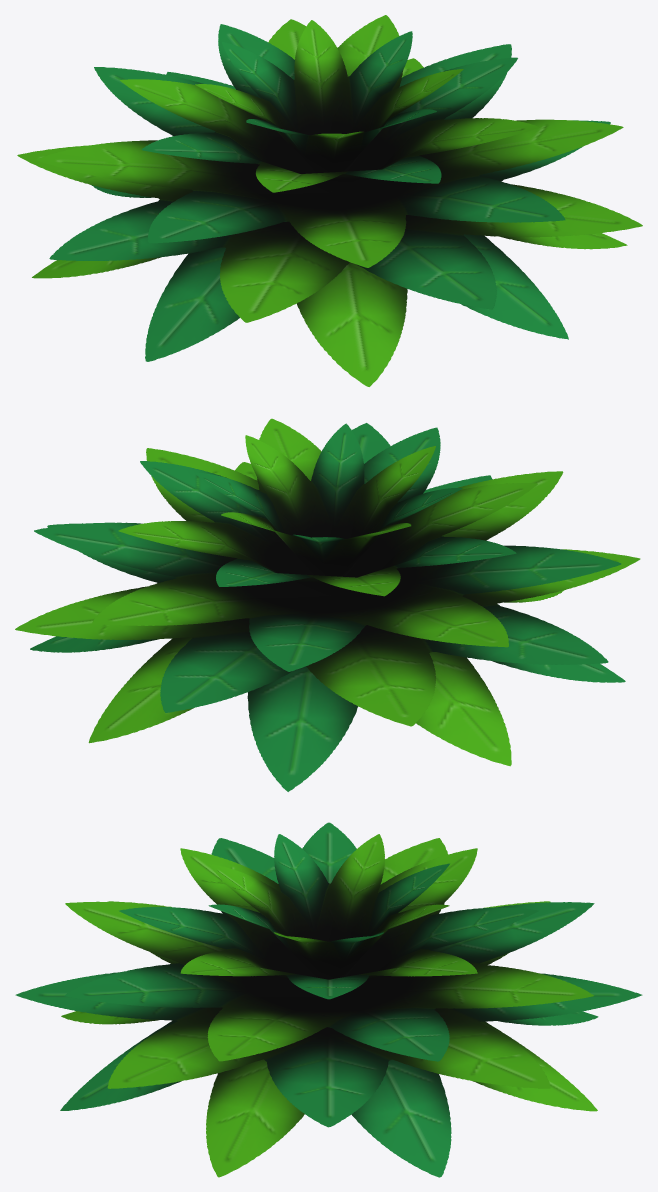
File: bush.FBX
The picture shows the model from 3 angles, top to bottom: view 1: azimuth 30°, elevation 25°; view 2: azimuth 150°, elevation 25°; view 3: azimuth 270°, elevation 25°; orthographic projection. The views are drawn at different scales.
Parts seen in each view (by area): view 1: Cylinder005; view 2: Cylinder005; view 3: Cylinder005.
Part boxes in pixels (x1=…): Cylinder005: x1=17, y1=15, x2=642, y2=386; Cylinder005: x1=15, y1=418, x2=640, y2=791; Cylinder005: x1=15, y1=822, x2=642, y2=1177.
Size of the model in its own units: 36.48 by 11.47 by 36.48.
